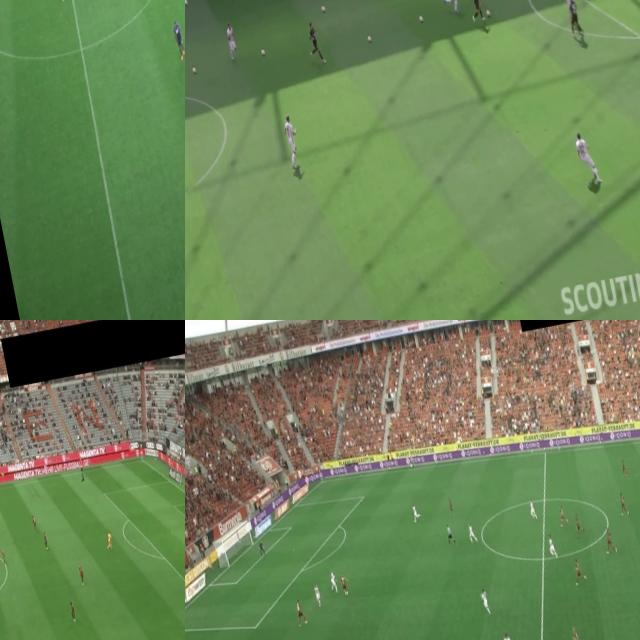ball: (192, 64, 200, 77), (259, 48, 267, 59), (485, 8, 493, 18), (418, 13, 423, 24), (345, 586, 349, 596), (321, 5, 326, 12), (368, 35, 372, 43), (185, 0, 188, 7)
player: (576, 132, 602, 186), (283, 113, 304, 170), (306, 22, 326, 62), (565, 0, 583, 39), (171, 18, 185, 57), (604, 526, 620, 558), (224, 22, 238, 56), (571, 556, 586, 585), (294, 595, 308, 624), (468, 0, 485, 23), (480, 588, 493, 614), (546, 532, 558, 560), (618, 490, 630, 517), (561, 0, 578, 16), (528, 495, 538, 522), (328, 568, 338, 594), (570, 625, 587, 640), (339, 570, 348, 598), (104, 531, 115, 552), (574, 513, 584, 536), (411, 500, 421, 523), (78, 562, 87, 587), (256, 538, 266, 560), (441, 0, 462, 10), (467, 524, 478, 543), (447, 496, 458, 515), (620, 455, 629, 478), (42, 530, 51, 552), (70, 600, 78, 624), (314, 586, 322, 608), (32, 513, 40, 534), (502, 630, 516, 640), (0, 548, 7, 566)
